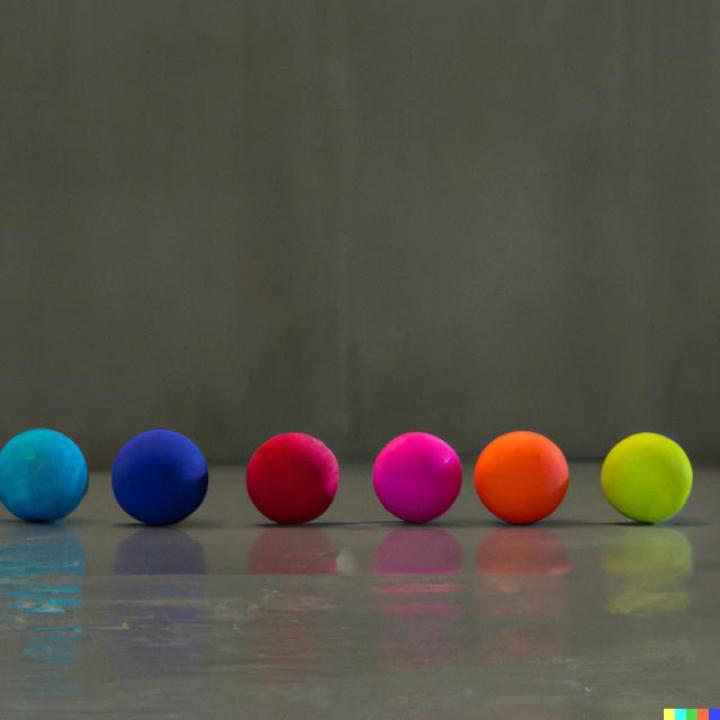orange: (476, 430, 571, 524)
